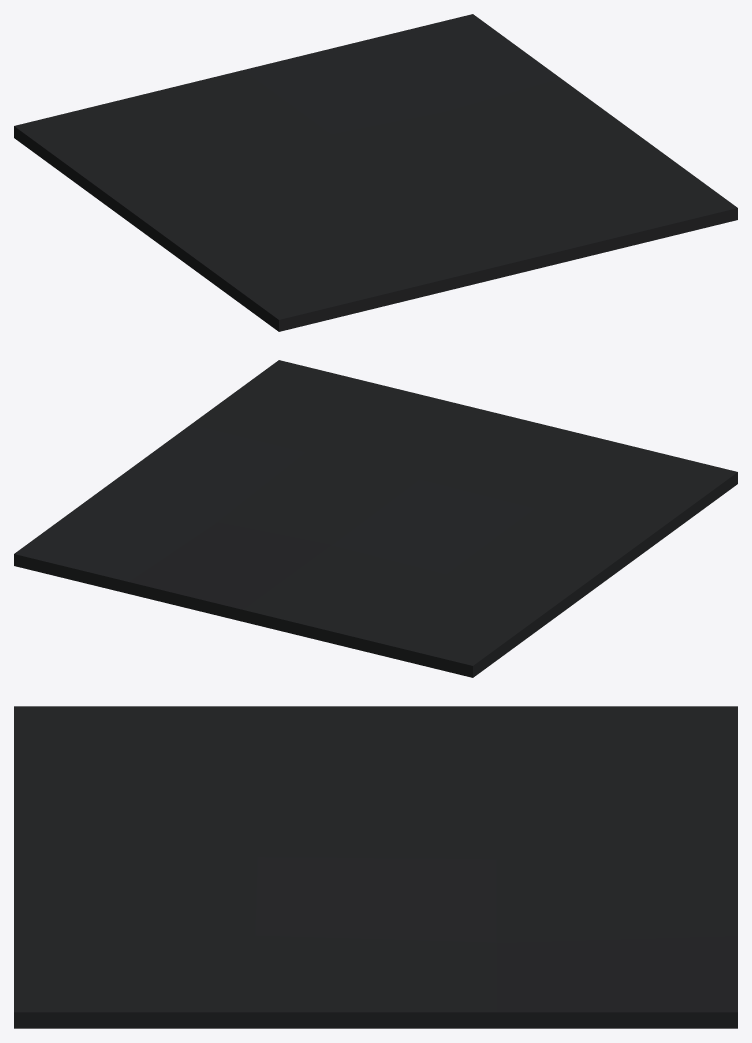
The model's file is Road_005-col.glb.
3 views of the same model, one above another, from view 1: azimuth 30°, elevation 25°; view 2: azimuth 150°, elevation 25°; view 3: azimuth 270°, elevation 25° (orthographic). The views are drawn at different scales.
Parts seen in each view (by area): view 1: Road_01_B-col; view 2: Road_01_B-col; view 3: Road_01_B-col.
Boxes of the visible parts, <box> form: Road_01_B-col: <box>14,14,737,331</box>; Road_01_B-col: <box>14,360,737,677</box>; Road_01_B-col: <box>14,706,737,1028</box>.
Size of the model in its own units: 2 by 0.0569 by 2.
1 material, 1 textured.
